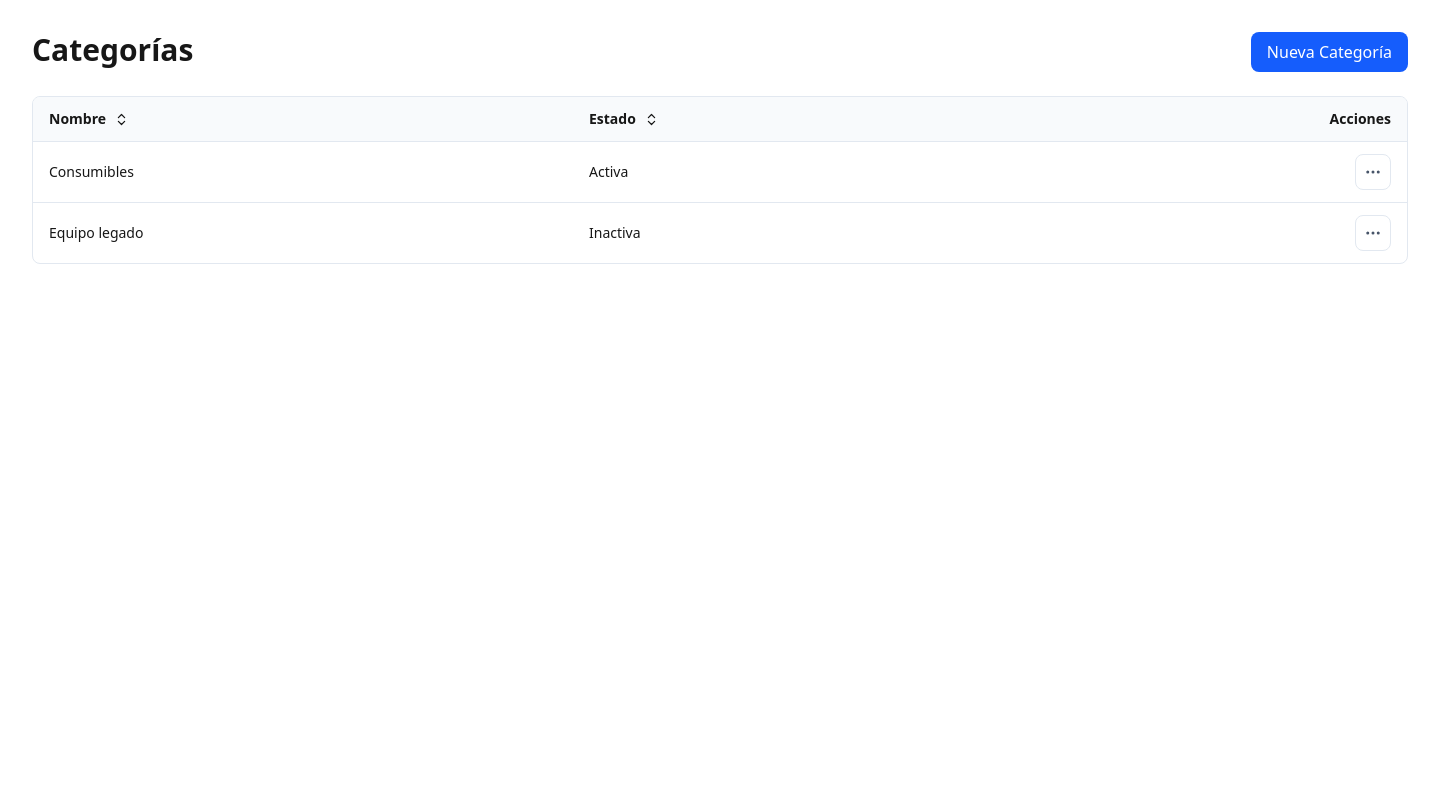
CategoriesPage › creates a category with the existing payload and refreshes the list
The image size is (1440, 810).
Expected: the text "Consumibles" is shown, [33,142,573,202]
Click the button "Nueva Categoría" at {"x": 1329, "y": 52}, box [1251,32,1408,72]
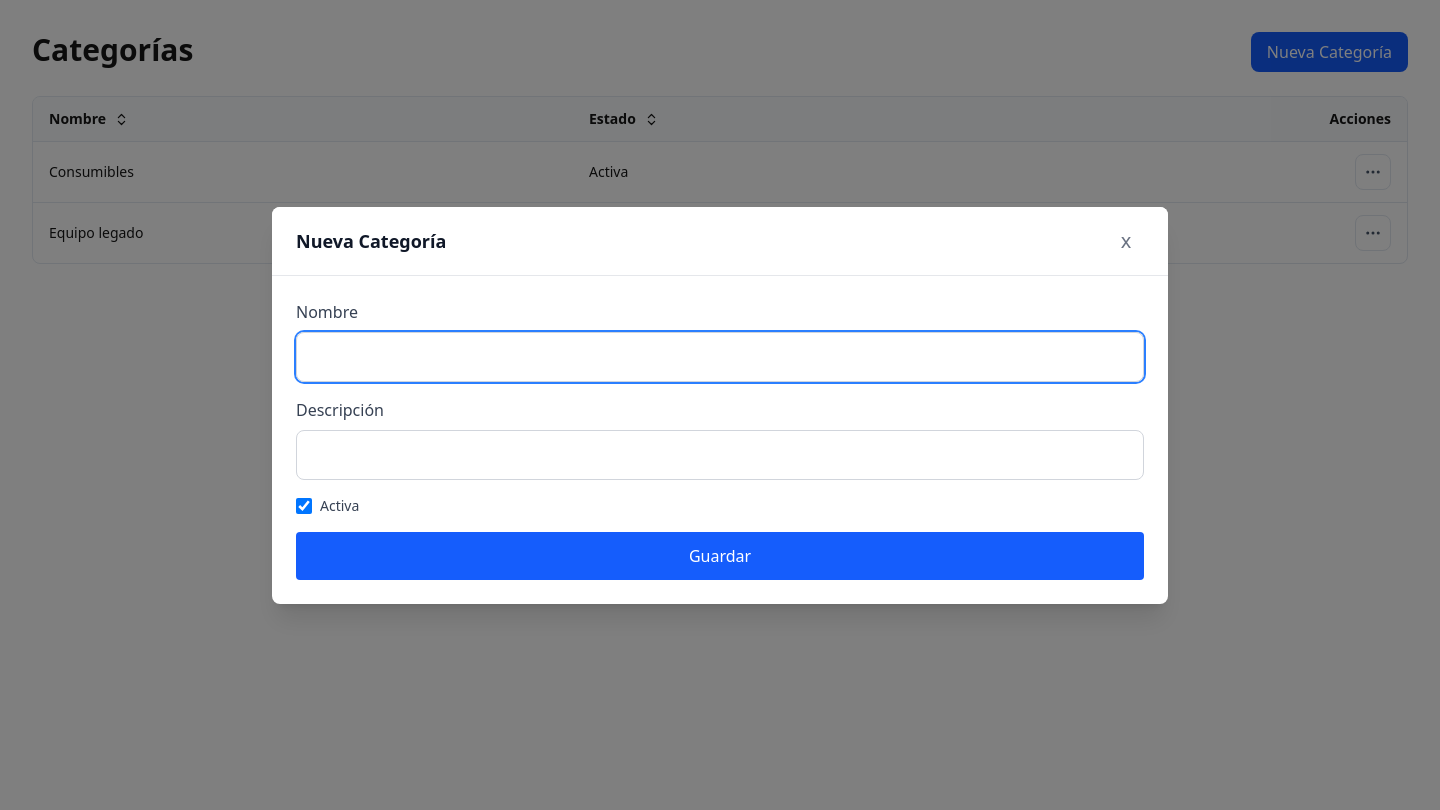
Type "Implantes" into the field labelled "Nombre" at {"x": 720, "y": 356}, box [296,332,1144,382]
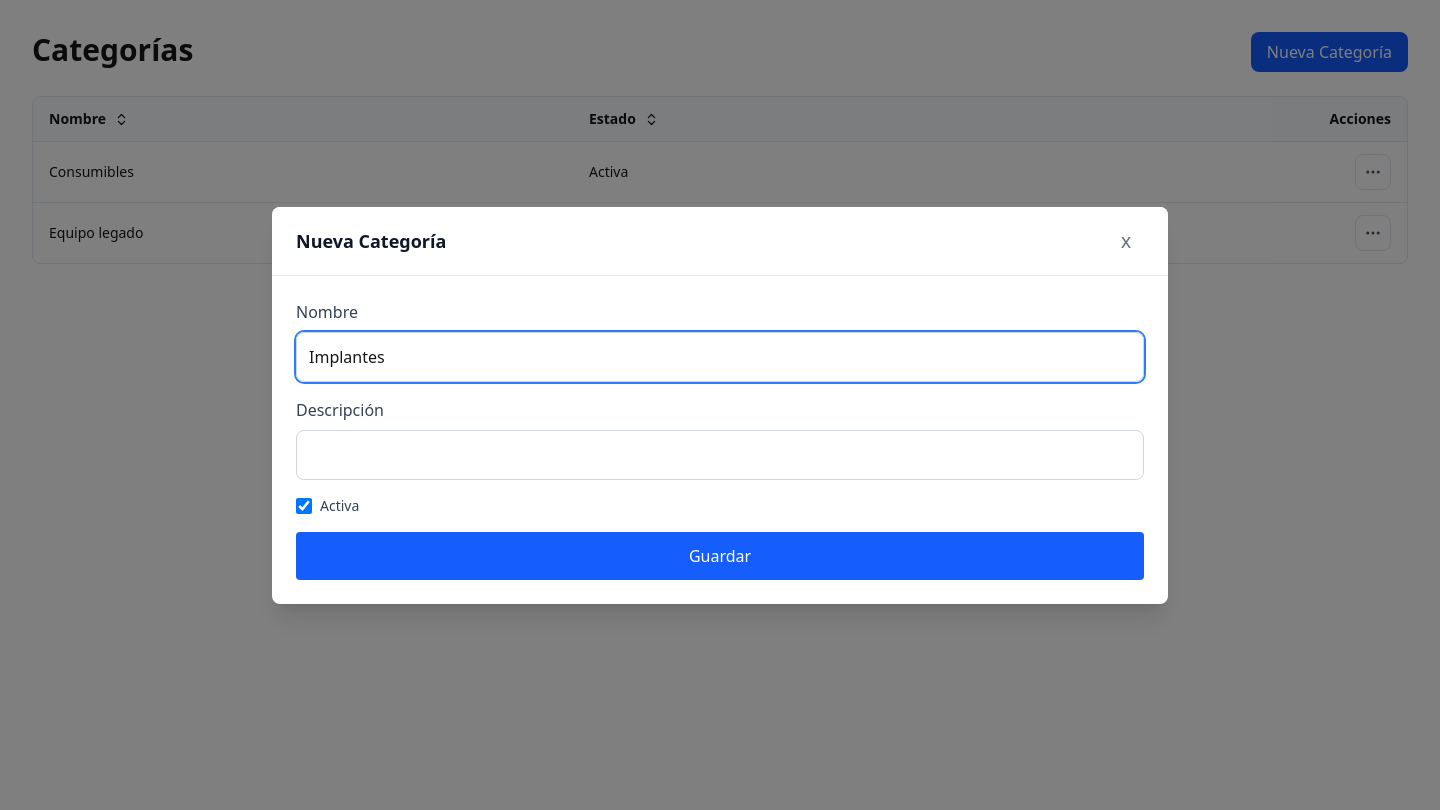
Type "Material implantable" into the field labelled "Descripción" at {"x": 720, "y": 454}, box [296,430,1144,480]
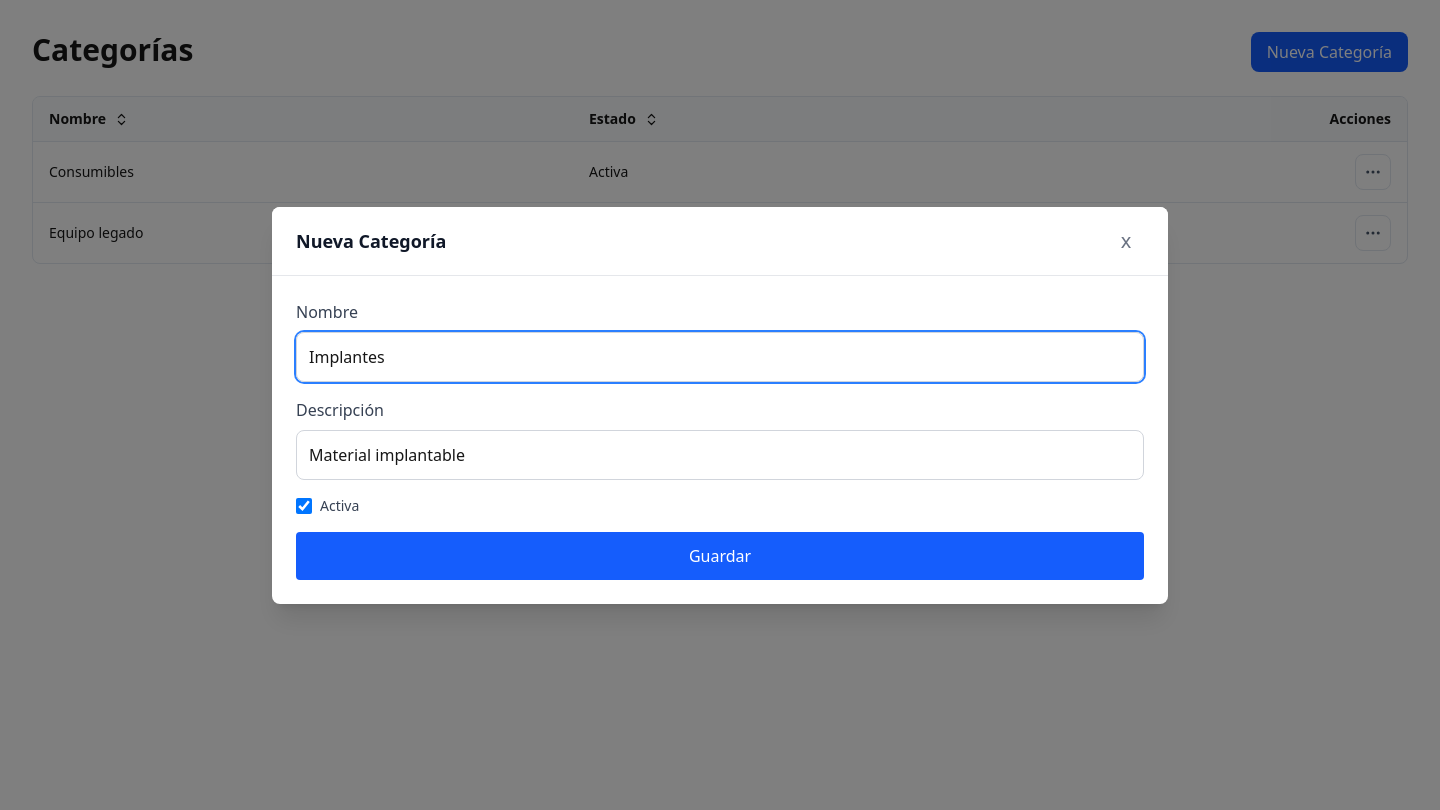
Click the checkbox labelled "Activa" at {"x": 304, "y": 506}, box [296,498,312,514]
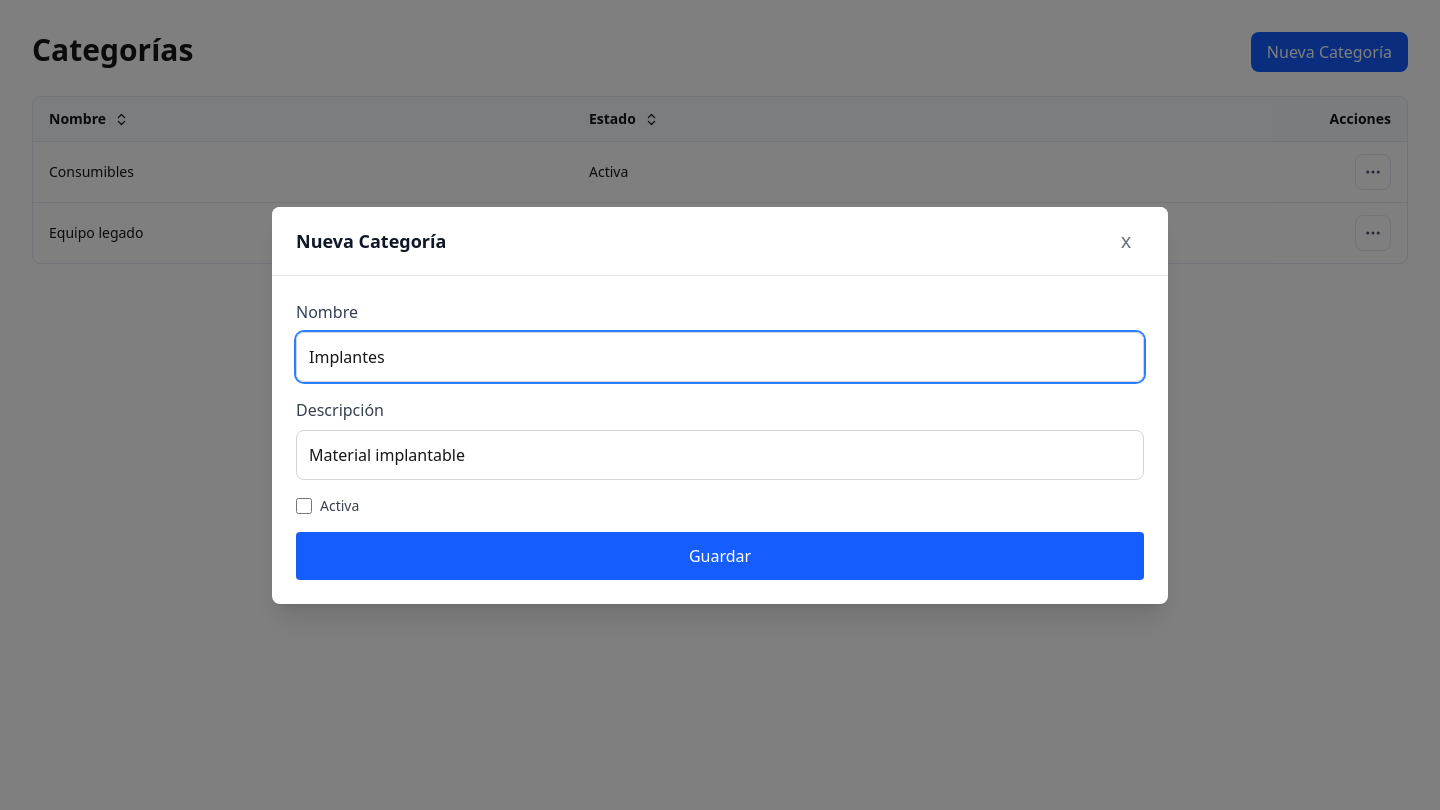
Click the button "Guardar" at {"x": 720, "y": 556}, box [296,532,1144,580]
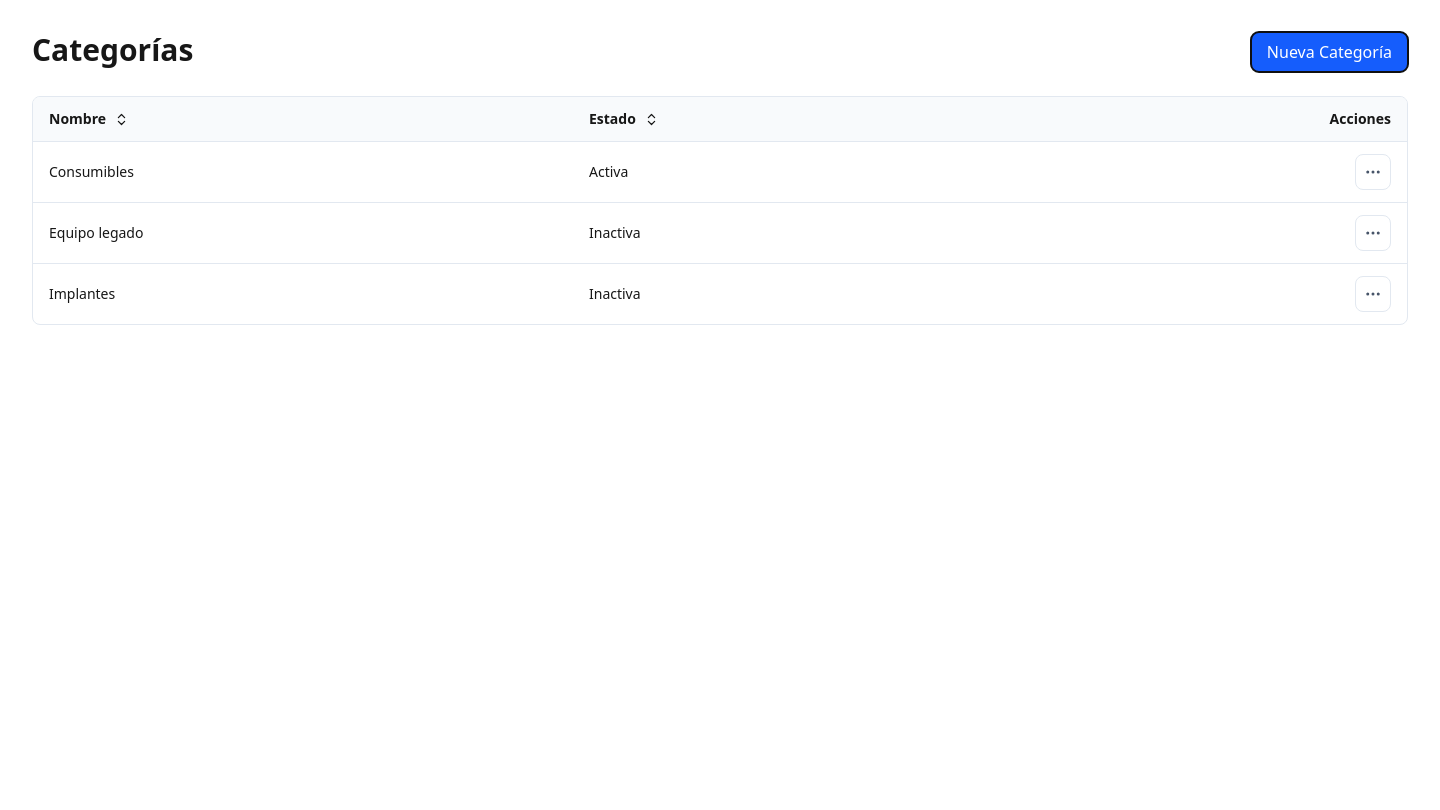
Now the text "Implantes" is shown, box [33,264,573,324]
